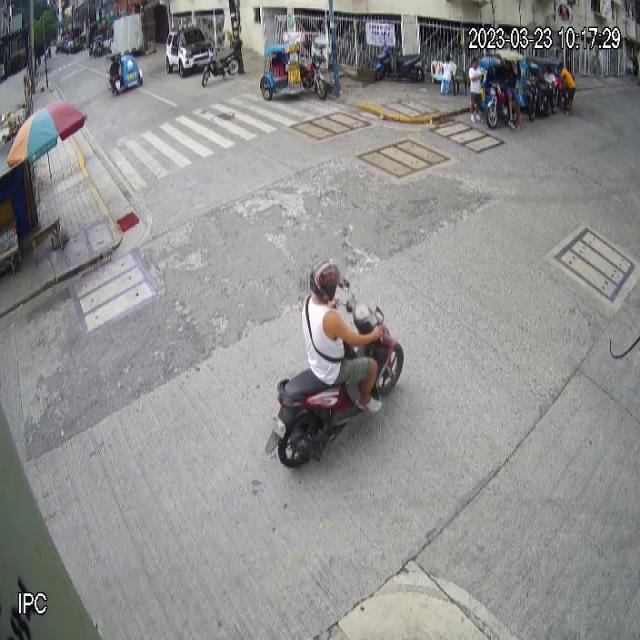Motorcycle: (262, 280, 404, 466)
Tricycle: (260, 30, 326, 104), (469, 50, 522, 128)
